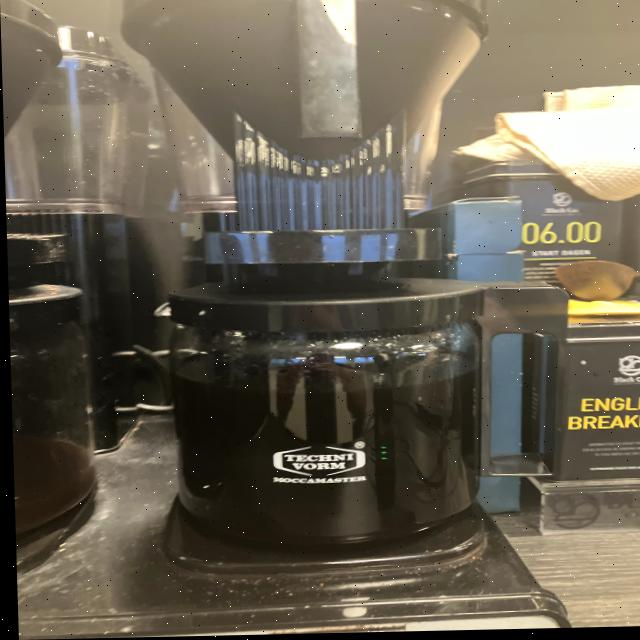coffee: (130, 280, 512, 557)
